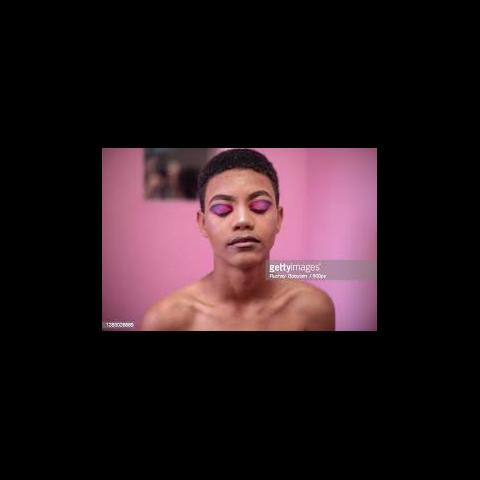closed: (206, 193, 276, 222)
